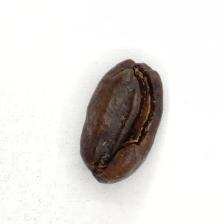NG: (109, 70, 156, 162)
